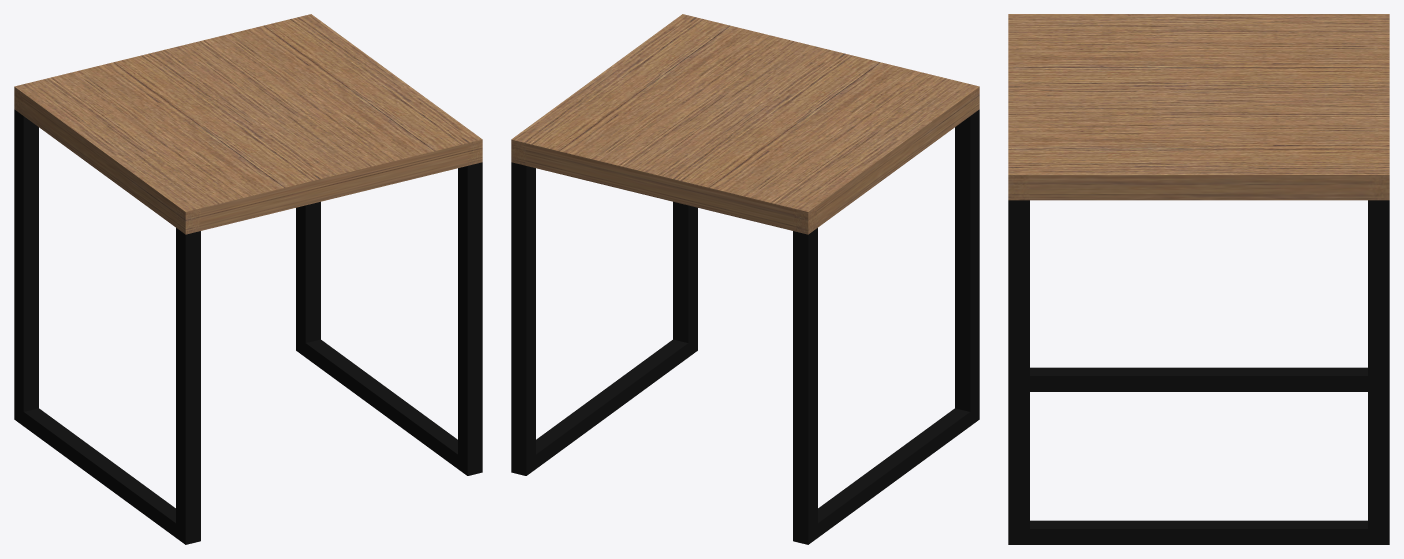
The model's file is Chair.fbx.
3 renders of one model, left to right at view 1: azimuth 30°, elevation 25°; view 2: azimuth 150°, elevation 25°; view 3: azimuth 270°, elevation 25°, orthographic. The views are drawn at different scales.
Visible parts, largest first — view 1: Cube.005; view 2: Cube.005; view 3: Cube.005.
Part boxes in pixels (<box>): Cube.005: <box>14,14,482,544</box>; Cube.005: <box>511,14,979,544</box>; Cube.005: <box>1008,14,1389,544</box>.
Bounding box in the file's own units: 59.11 × 63.29 × 59.11.
